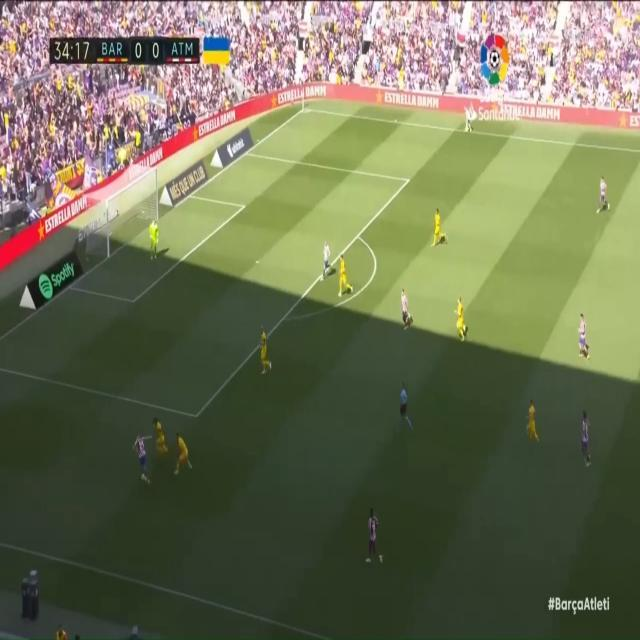ball: (137, 471, 147, 492)
goalkeeper: (143, 215, 162, 267)
player: (357, 500, 385, 574), (130, 428, 156, 503), (571, 392, 595, 470), (453, 276, 477, 348), (254, 316, 277, 379), (399, 274, 417, 339), (152, 408, 173, 463), (524, 391, 542, 452), (573, 305, 591, 361), (320, 228, 337, 278), (173, 425, 189, 478), (594, 164, 610, 216), (430, 205, 447, 253), (333, 254, 350, 299)
referee: (394, 368, 415, 436), (455, 101, 472, 134)
